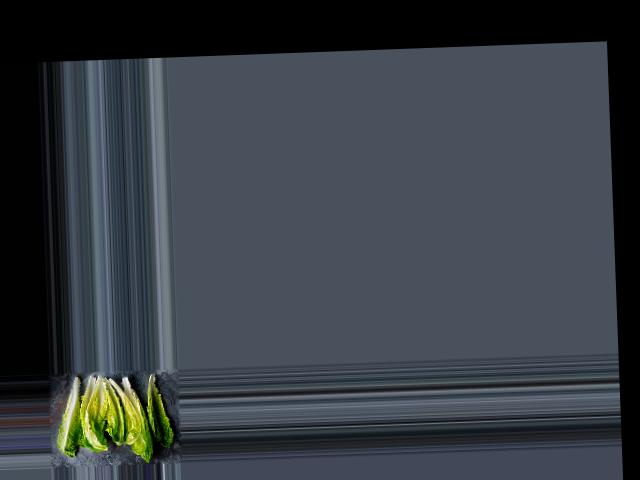lettuce: (144, 370, 171, 447)
